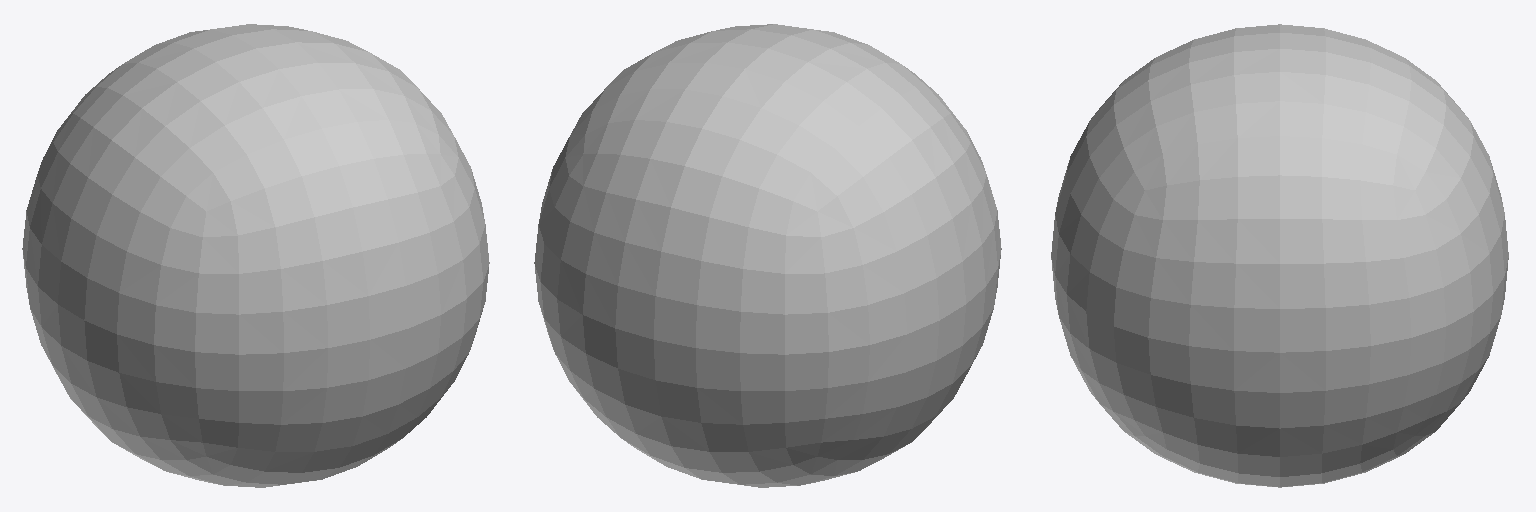
File: SubdivisionCube.obj
3 views of the same model, side by side, from view 1: azimuth 30°, elevation 25°; view 2: azimuth 150°, elevation 25°; view 3: azimuth 270°, elevation 25° (orthographic).
Visible parts, largest first — view 1: Cube; view 2: Cube; view 3: Cube.
Part boxes in pixels (x1,y1,x2,y2): Cube: (22, 24, 489, 487); Cube: (534, 24, 1001, 487); Cube: (1051, 24, 1508, 487).
Bounding box in the file's own units: 1.7 × 1.7 × 1.7.